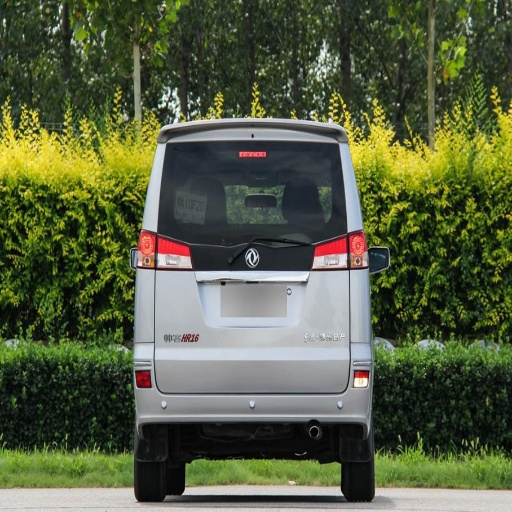back_bumper: (136, 270, 369, 429)
trunk: (138, 232, 356, 390)
